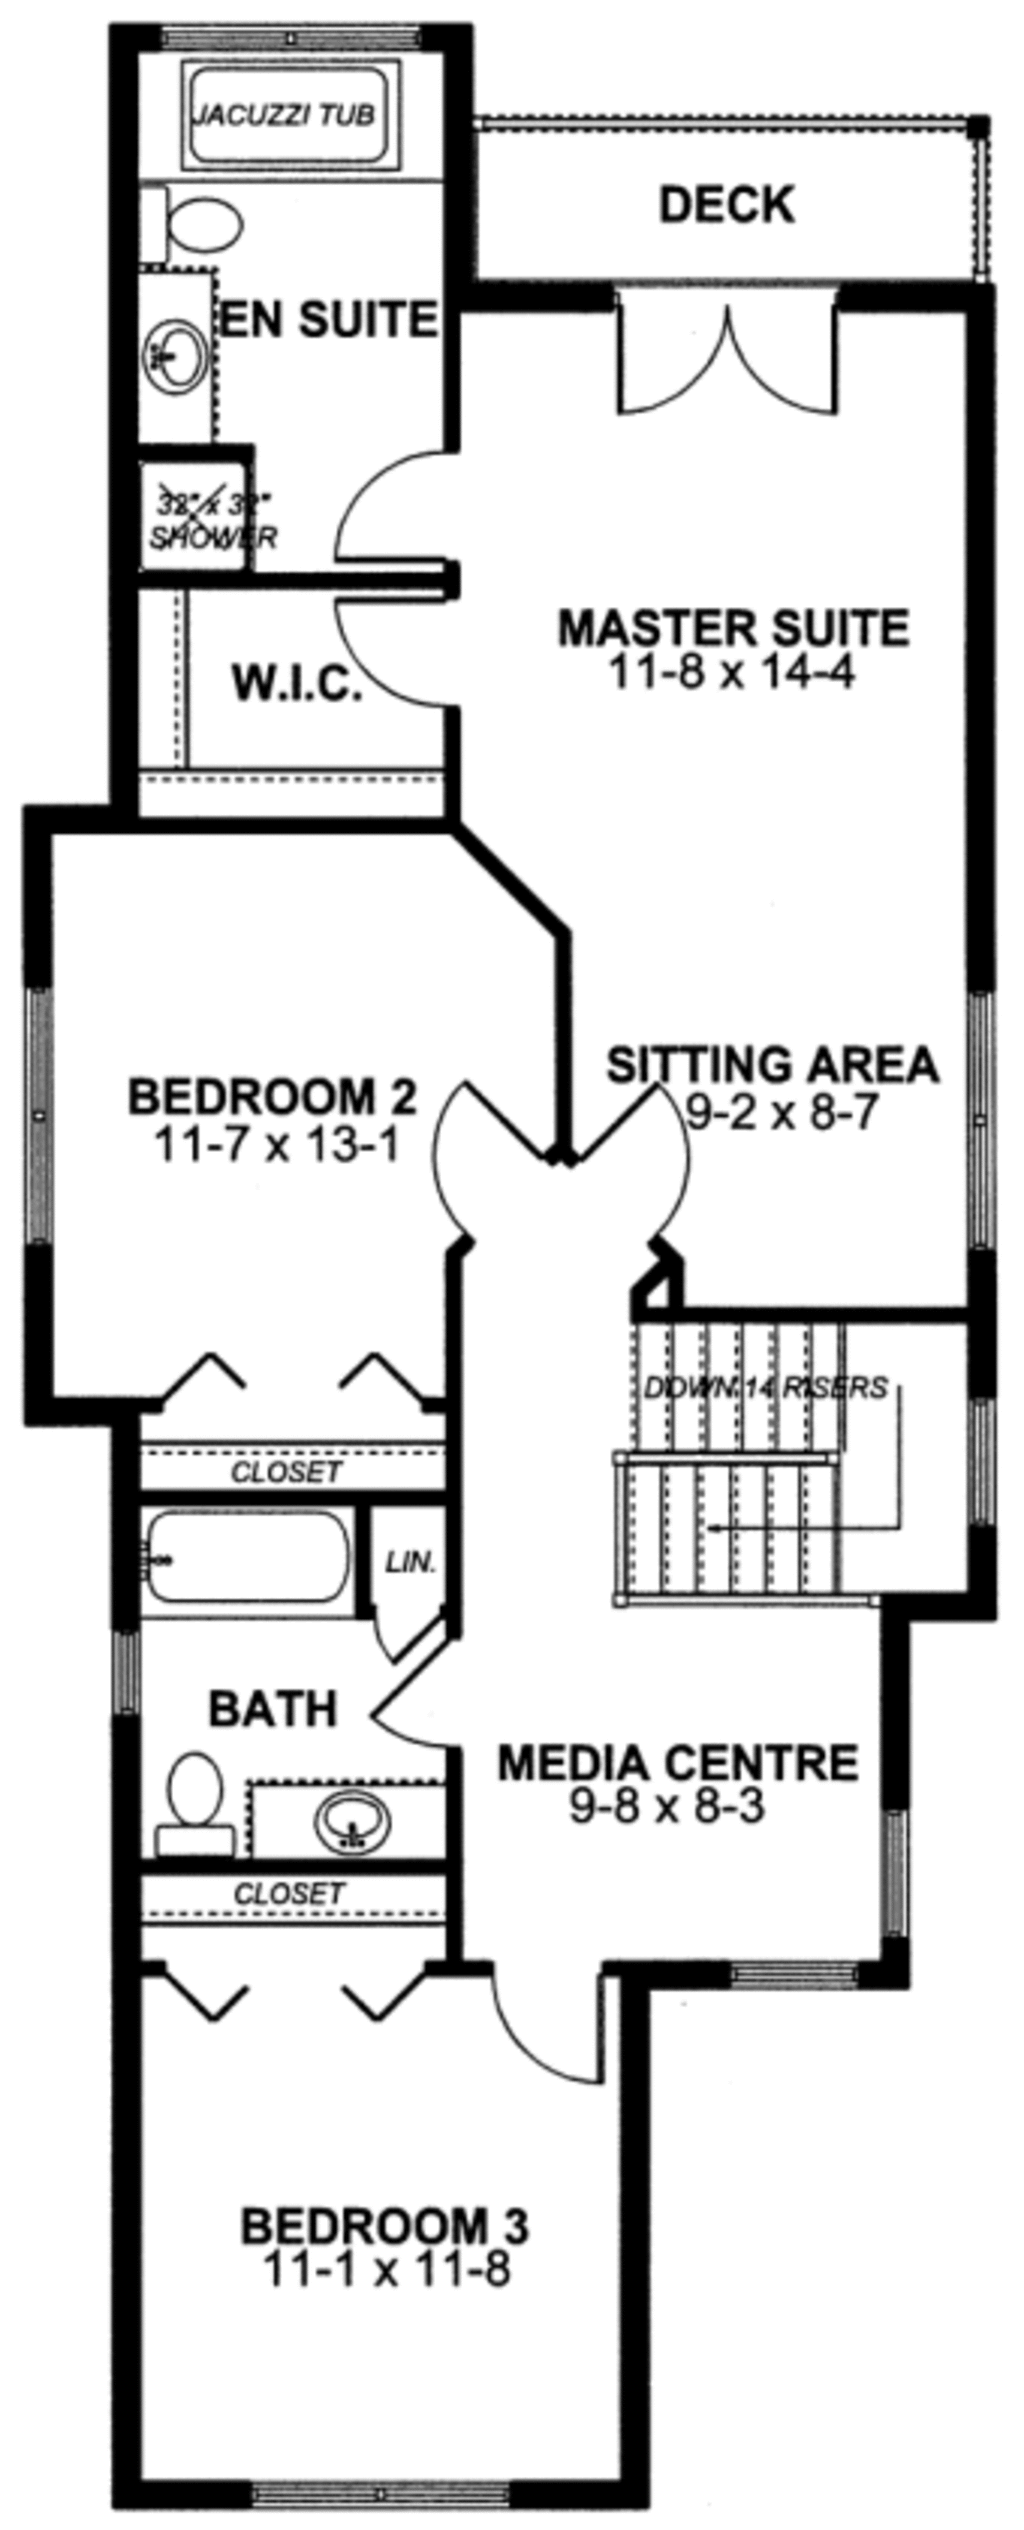door: (385, 1063, 577, 1255), (606, 266, 847, 420), (469, 1951, 626, 2107), (302, 587, 485, 707), (577, 1067, 693, 1239), (331, 447, 466, 566), (350, 1626, 477, 1751), (369, 1583, 434, 1664)
large_sink: (123, 160, 266, 287), (166, 1735, 239, 1856)
small_sink: (247, 1767, 434, 1872), (126, 282, 239, 452)
stairs: (601, 1307, 942, 1610)
tub: (142, 44, 434, 179), (126, 1480, 382, 1615)
window: (18, 983, 85, 1288), (958, 999, 1018, 1267), (255, 2456, 534, 2499), (734, 1943, 885, 2007), (882, 1823, 922, 1980), (963, 1407, 1001, 1539)
